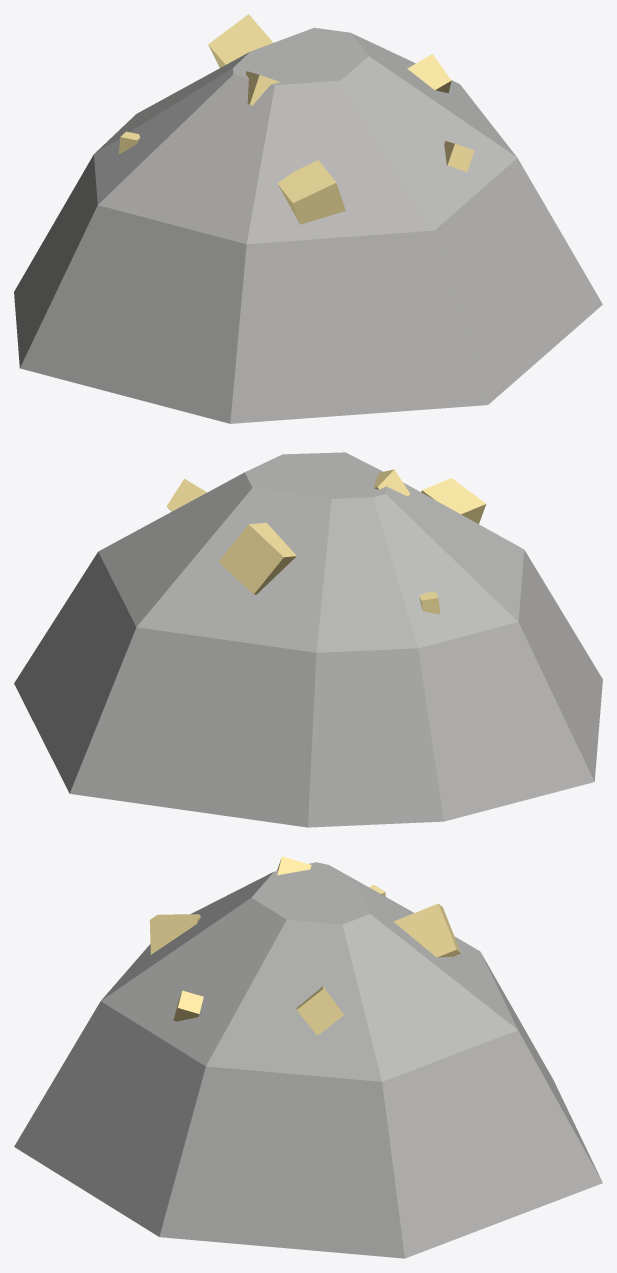
The model's file is RockGold.fbx.
The picture shows the model from 3 angles, top to bottom: view 1: azimuth 30°, elevation 25°; view 2: azimuth 150°, elevation 25°; view 3: azimuth 270°, elevation 25°; orthographic projection. The views are drawn at different scales.
Parts seen in each view (by area): view 1: Rock, Ore.002, Ore.001, Ore, Ore.005, Ore.003; view 2: Rock, Ore.001, Ore.002, Ore, Ore.003; view 3: Rock, Ore.001, Ore, Ore.002, Ore.005.
Part boxes in pixels (x1,y1,x2,y2): Rock: (14,27,602,423); Ore.002: (277,160,345,224); Ore.001: (208,14,273,67); Ore: (407,54,451,93); Ore.005: (444,141,474,171); Ore.003: (246,71,280,105); Rock: (14,452,602,827); Ore.001: (218,522,296,594); Ore.002: (421,478,486,523); Ore: (166,478,206,511); Ore.003: (374,469,409,496); Rock: (14,862,602,1258); Ore.001: (393,903,460,957); Ore: (296,986,343,1034); Ore.002: (149,914,200,954); Ore.005: (173,990,203,1021).
Bounding box in the file's own units: 787 × 346 × 749.
